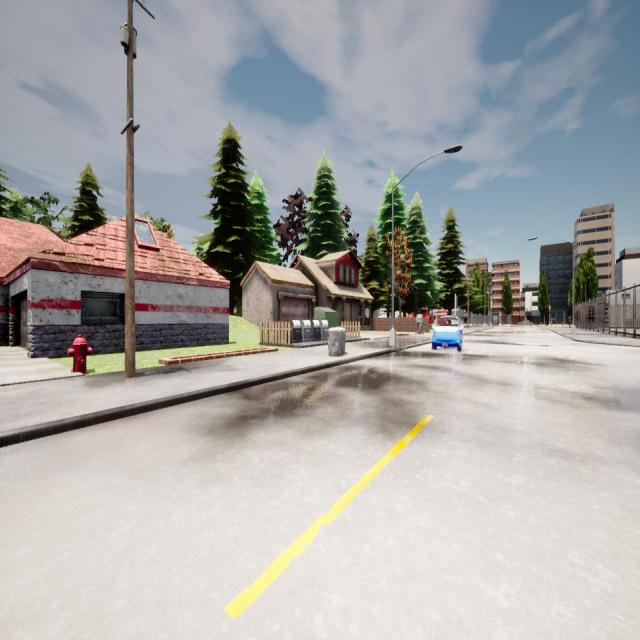Pedestrian: (416, 310, 423, 333), (568, 315, 572, 327)
Vehicle: (432, 316, 463, 351)
traffic_light: (456, 298, 458, 309), (548, 307, 550, 314)
